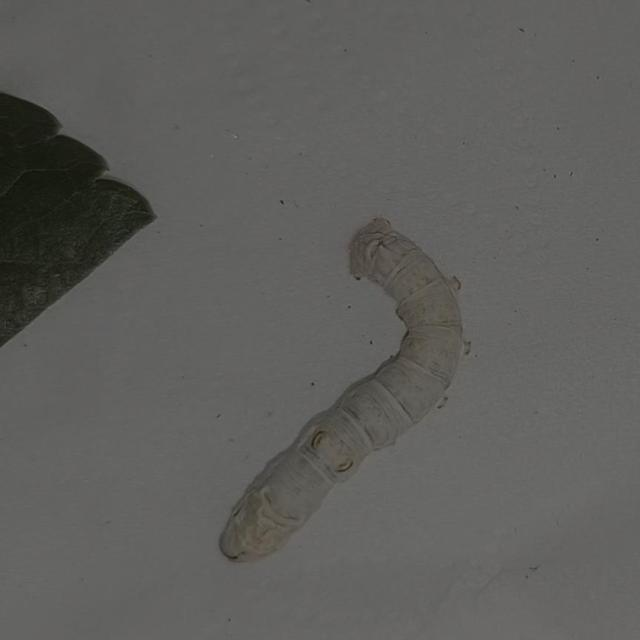Healthy: (175, 188, 532, 586)
